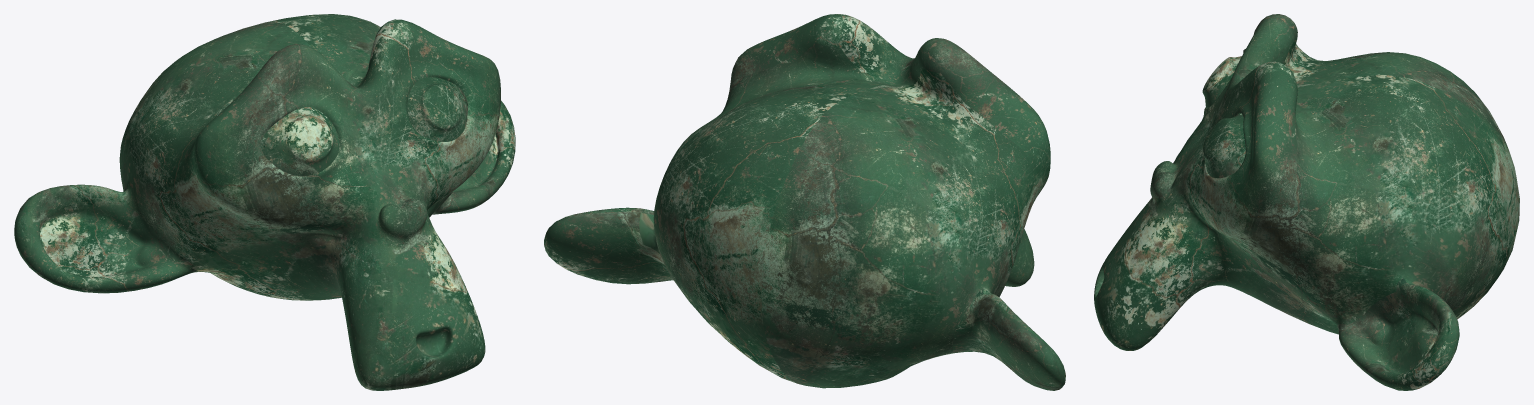
Rendered from monkey.glb.
3 renders of one model, left to right at view 1: azimuth 30°, elevation 25°; view 2: azimuth 150°, elevation 25°; view 3: azimuth 270°, elevation 25°, orthographic. The views are drawn at different scales.
Visible parts, largest first — view 1: Suzanne; view 2: Suzanne; view 3: Suzanne.
Boxes of the visible parts, x1,y1,x2,y2 form: Suzanne: (14, 14, 515, 390); Suzanne: (544, 14, 1065, 390); Suzanne: (1094, 14, 1519, 390).
Bounding box in the file's own units: 1.75 × 0.9935 × 1.32.
1 material, 1 textured.
